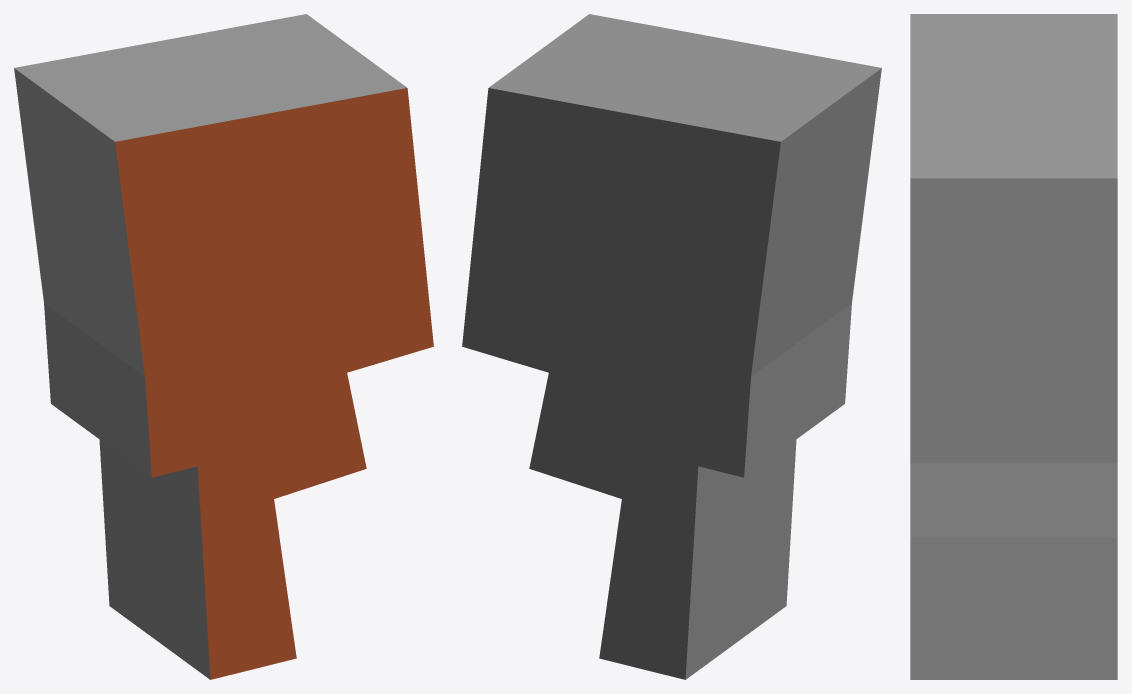
The model's file is construction_6874_assumed_A_Casa_h6m.obj.
The picture shows the model from 3 angles, left to right: view 1: azimuth 30°, elevation 25°; view 2: azimuth 150°, elevation 25°; view 3: azimuth 270°, elevation 25°; orthographic projection. The views are drawn at different scales.
Parts seen in each view (by area): view 1: construction_6874_assumed_A_Casa; view 2: construction_6874_assumed_A_Casa; view 3: construction_6874_assumed_A_Casa.
Part boxes in pixels (x1,y1,x2,y2): construction_6874_assumed_A_Casa: (14,14,433,679); construction_6874_assumed_A_Casa: (462,14,881,679); construction_6874_assumed_A_Casa: (910,14,1117,679).
Bounding box in the file's own units: 10.94 × 18.4 × 6.
